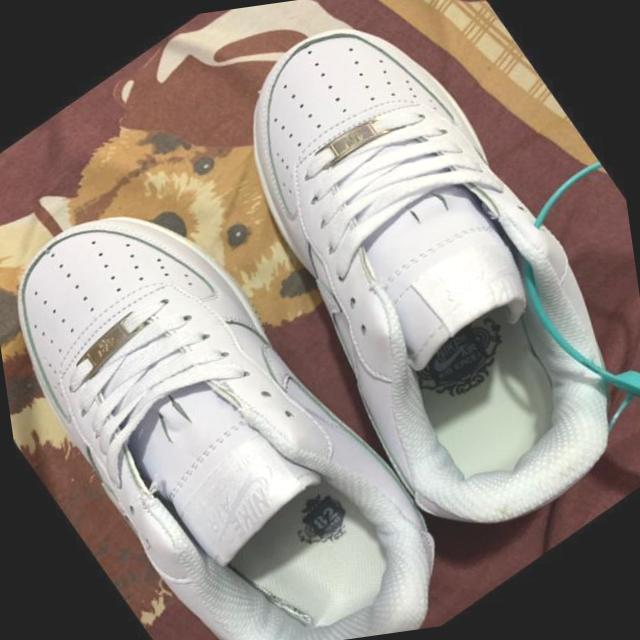nike_fake_airforce: (142, 0, 640, 603), (0, 117, 485, 640)
